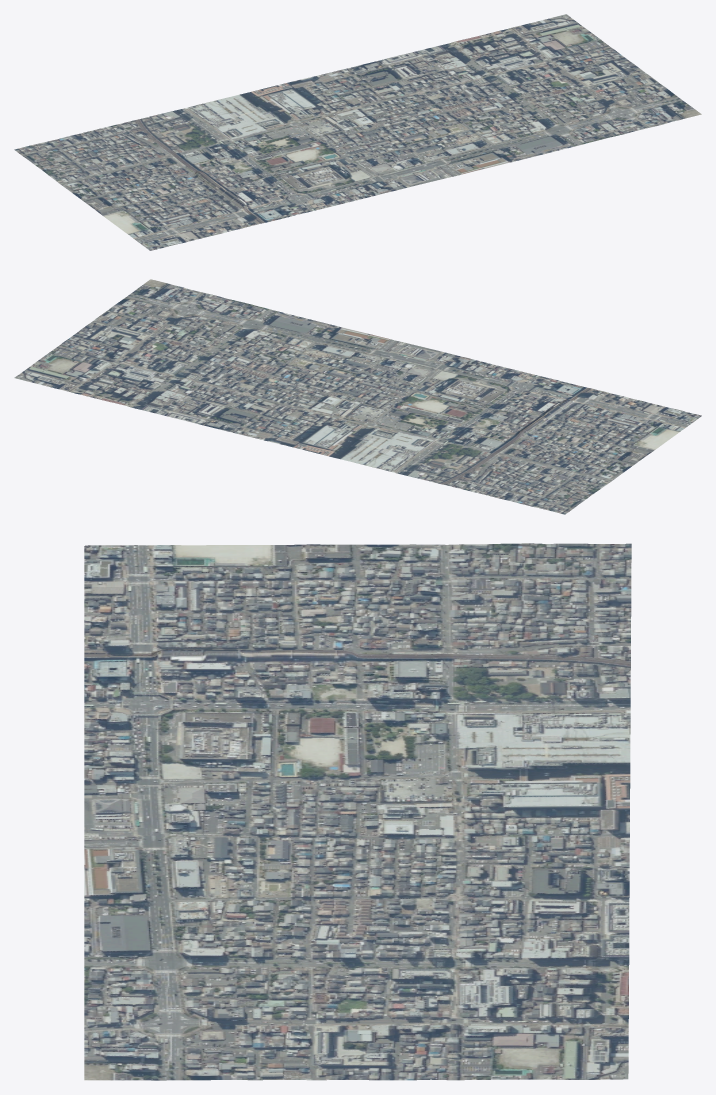
Rendered from ground52353670.glb.
The picture shows the model from 3 angles, top to bottom: view 1: azimuth 30°, elevation 25°; view 2: azimuth 150°, elevation 25°; view 3: azimuth 270°, elevation 25°; orthographic projection. The views are drawn at different scales.
Visible parts, largest first — view 1: dem_0147889a-ffd4-410b-987d-632790ff70c0; view 2: dem_0147889a-ffd4-410b-987d-632790ff70c0; view 3: dem_0147889a-ffd4-410b-987d-632790ff70c0.
Part boxes in pixels (left/top/right/bottom): dem_0147889a-ffd4-410b-987d-632790ff70c0: left=14, top=14, right=701, bottom=250; dem_0147889a-ffd4-410b-987d-632790ff70c0: left=14, top=279, right=701, bottom=514; dem_0147889a-ffd4-410b-987d-632790ff70c0: left=84, top=543, right=631, bottom=1080.
Bounding box in the file's own units: 1142 × 6.9 × 490.
1 material, 1 textured.
